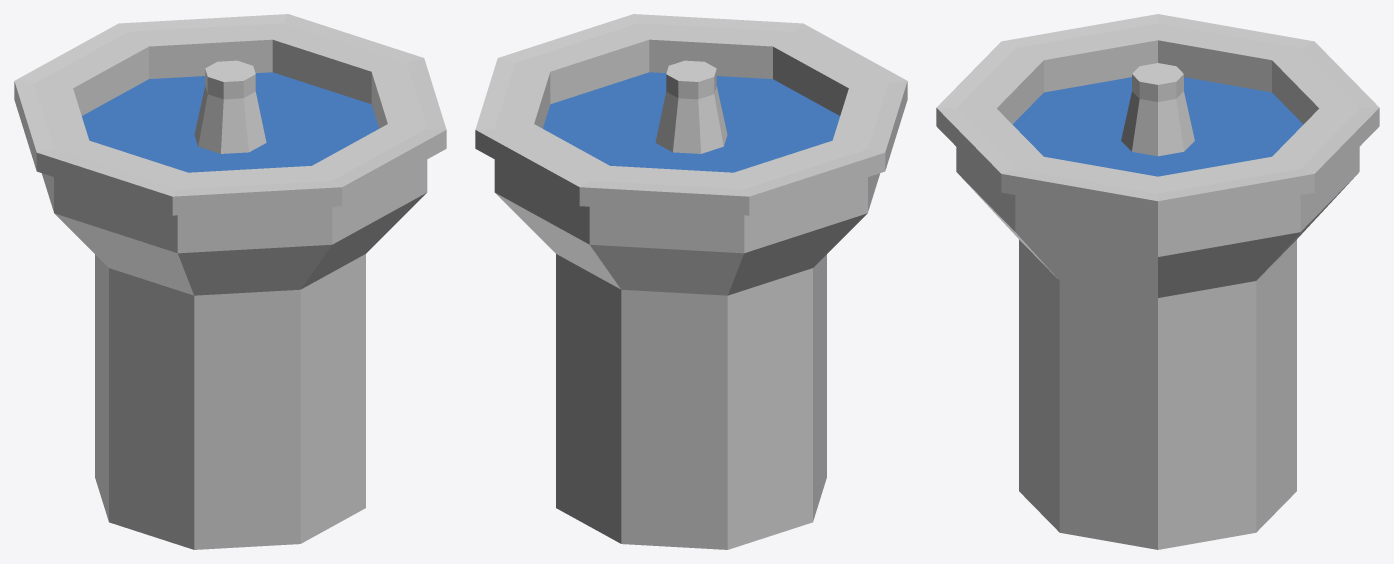
The model's file is fountain.fbx.
3 views of the same model, side by side, from view 1: azimuth 30°, elevation 25°; view 2: azimuth 150°, elevation 25°; view 3: azimuth 270°, elevation 25° (orthographic).
Visible parts, largest first — view 1: Cylinder; view 2: Cylinder; view 3: Cylinder.
Boxes of the visible parts, <box> form: Cylinder: <box>14,14,446,549</box>; Cylinder: <box>475,14,907,549</box>; Cylinder: <box>936,14,1379,549</box>.
Bounding box in the file's own units: 319 × 331 × 319.
